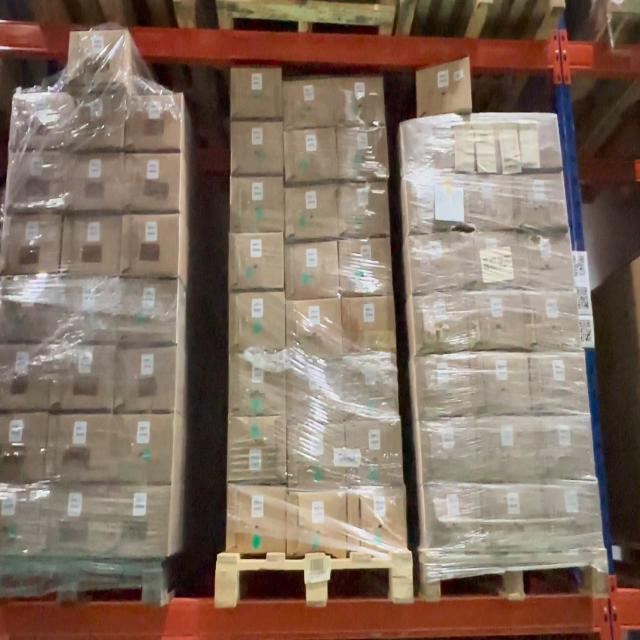box: (42, 487, 107, 552), (108, 488, 170, 556), (56, 276, 118, 340), (50, 415, 110, 481), (113, 415, 169, 484), (228, 416, 286, 482), (228, 487, 284, 554), (53, 347, 114, 408), (116, 346, 174, 410), (544, 481, 599, 548), (348, 488, 405, 552), (480, 418, 536, 482), (0, 276, 55, 340), (416, 54, 471, 117), (121, 279, 176, 342), (63, 215, 121, 274), (288, 360, 344, 421), (425, 486, 480, 548), (347, 420, 400, 484), (65, 151, 123, 209), (288, 429, 345, 488), (124, 153, 181, 212), (486, 486, 542, 546), (8, 150, 64, 209), (422, 422, 477, 482), (416, 357, 471, 417), (123, 214, 178, 274), (288, 497, 347, 552), (230, 354, 284, 414), (4, 214, 59, 272), (537, 416, 590, 476), (346, 355, 395, 419), (68, 94, 124, 150), (230, 292, 284, 350), (126, 93, 182, 147), (474, 354, 527, 411), (534, 354, 584, 412), (286, 302, 340, 355), (14, 92, 67, 146), (466, 232, 517, 288), (414, 297, 466, 351), (406, 178, 460, 230), (230, 234, 284, 286), (471, 291, 522, 346), (344, 296, 393, 353), (231, 178, 283, 231), (285, 245, 338, 297), (71, 30, 122, 84), (521, 232, 570, 288), (527, 292, 576, 348), (342, 238, 388, 294), (411, 236, 462, 286), (508, 114, 557, 166), (456, 116, 506, 166), (232, 123, 282, 173), (232, 68, 281, 118), (403, 124, 454, 172), (516, 173, 563, 225), (465, 175, 512, 227), (338, 126, 386, 176), (340, 184, 387, 235), (284, 132, 336, 178), (286, 188, 336, 235), (334, 79, 383, 123), (283, 83, 332, 126)
